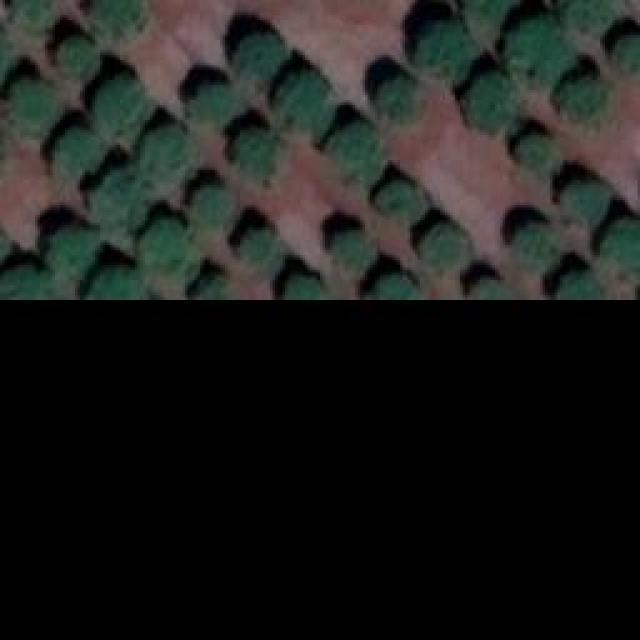Tree: (263, 68, 333, 133), (505, 15, 570, 80), (463, 68, 518, 133), (93, 165, 148, 230), (230, 27, 288, 85), (227, 222, 285, 280), (3, 75, 56, 135), (415, 220, 470, 275), (140, 218, 190, 278), (550, 70, 603, 120), (415, 23, 465, 76), (137, 120, 185, 173), (185, 75, 235, 125), (538, 265, 611, 298), (337, 120, 385, 170), (100, 75, 145, 128), (45, 222, 90, 270), (508, 133, 558, 176), (563, 175, 606, 225), (233, 123, 276, 173), (597, 217, 640, 267), (90, 0, 145, 38), (373, 72, 416, 120), (52, 35, 100, 78), (58, 127, 101, 175), (518, 217, 561, 265), (325, 222, 365, 270), (387, 180, 425, 228), (190, 183, 230, 226), (0, 264, 52, 297), (558, 0, 613, 30), (88, 265, 138, 298), (365, 268, 420, 298), (280, 268, 325, 301), (190, 268, 230, 301), (610, 30, 640, 73), (460, 273, 510, 298), (463, 0, 523, 20), (10, 0, 48, 28)
